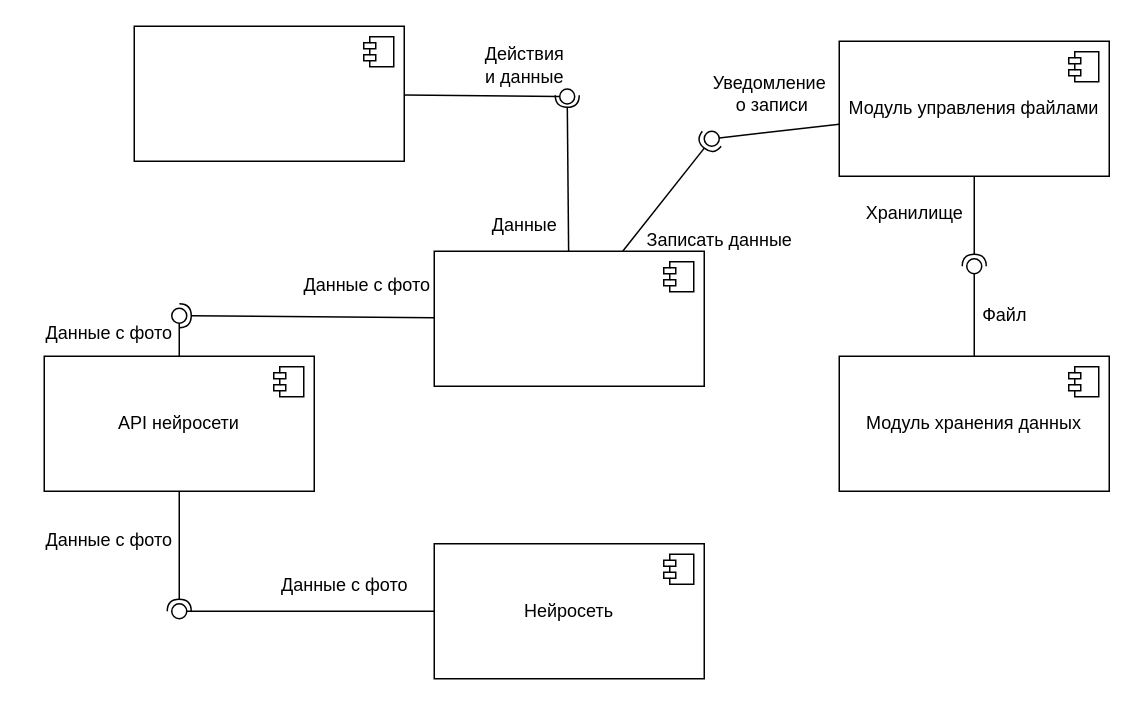
Image size: 1136x705. Some labels were removed from this diagram. The shapes that lost their labels are listed below. From the top down, each one's box as (x1, y1, x2, y2) in pixels, then its label:
(133, 25, 404, 161): Пользовательский интерфейс
(433, 250, 704, 386): Модуль обработки бизнес-операций
